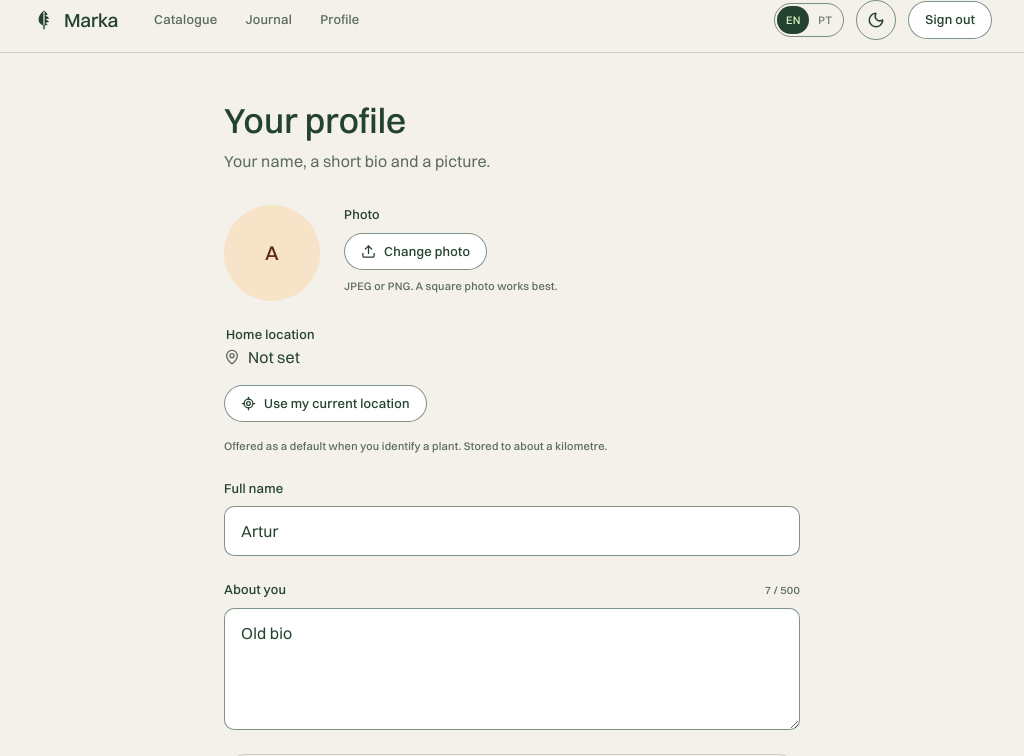
ProfilePage › sends only what changed
Replace the text in the text box labelled "About you" with "I grow lupines on a balcony." at x=512, y=669, box [224,608,800,730]
(page scrolled)
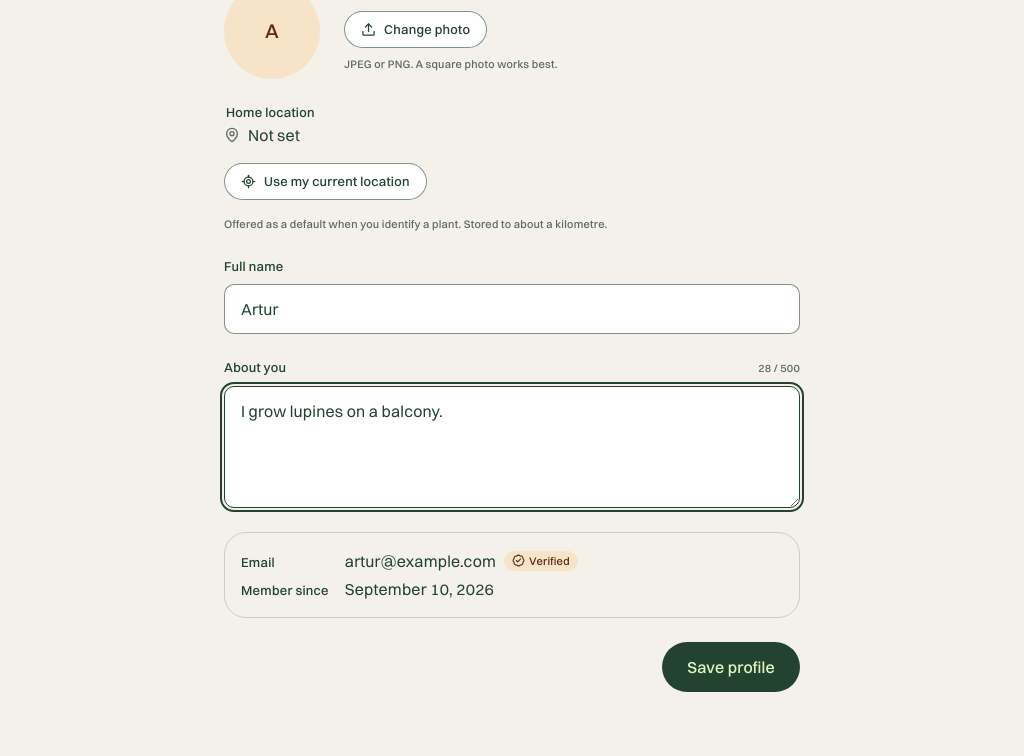
Click the button "Save profile" at x=731, y=667, box [662,642,800,692]
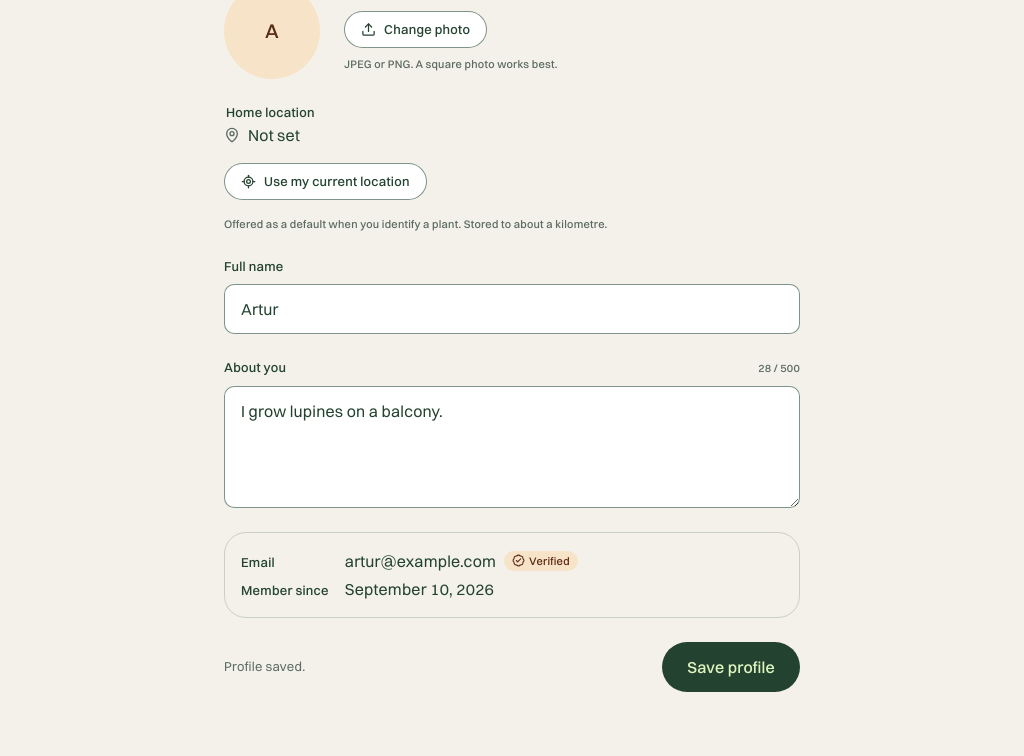
Now the text "Profile saved." is shown, box [224,657,305,676]
